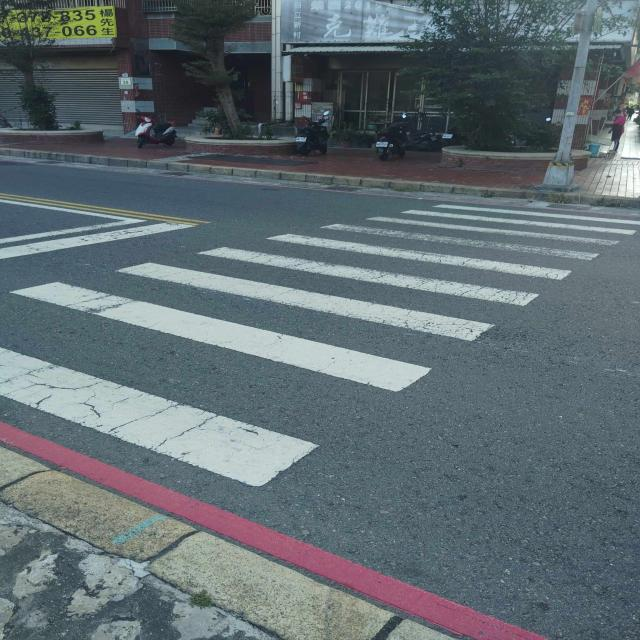zebra crossing: (0, 197, 640, 487)
